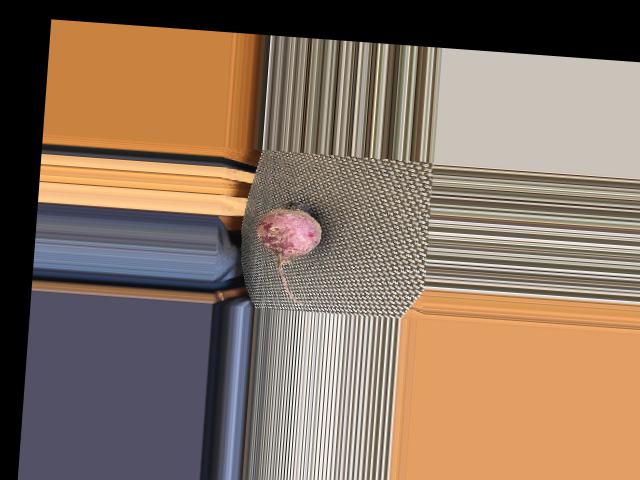beet: (250, 198, 323, 304)
